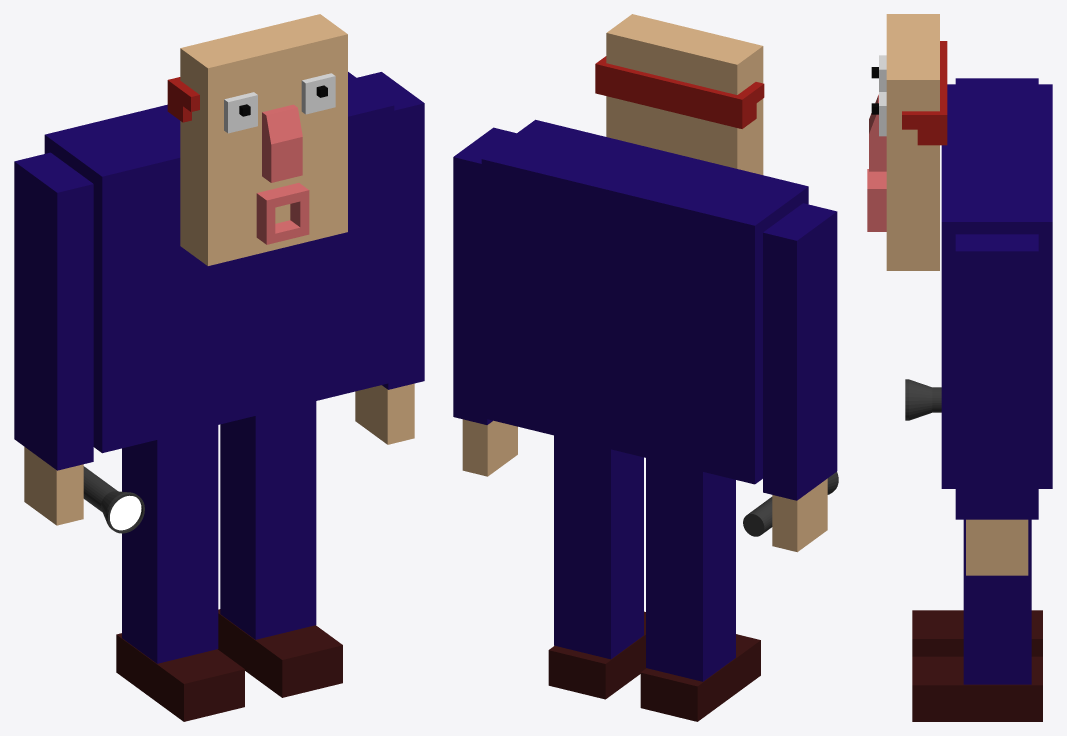
The model's file is old-guy.glb.
3 views of the same model, side by side, from view 1: azimuth 30°, elevation 25°; view 2: azimuth 150°, elevation 25°; view 3: azimuth 270°, elevation 25° (orthographic). The views are drawn at different scales.
Parts seen in each view (by area): view 1: Cube, Cube.004, Cube.002, Cube.001, Cube.005, Cube.003, Cube.007, Cube.008, Cylinder.001, Cube.009, Cube.006; view 2: Cube, Cube.004, Cube.002, Cube.001, Cube.005, Cube.006, Cube.003, Cylinder.001; view 3: Cube.002, Cube, Cube.001, Cube.005, Cube.004, Cube.003, Cube.006, Cube.008, Cylinder.001, Cube.007, Cube.009.
Part boxes in pixels (<box>): Cube: <box>44,72,394,453</box>; Cube.004: <box>122,401,316,663</box>; Cube.002: <box>14,72,424,470</box>; Cube.001: <box>180,14,347,265</box>; Cube.005: <box>116,609,342,721</box>; Cube.003: <box>24,383,414,525</box>; Cube.007: <box>262,104,302,182</box>; Cube.008: <box>256,183,309,244</box>; Cylinder.001: <box>83,466,144,533</box>; Cube.009: <box>224,73,335,133</box>; Cube.006: <box>167,77,199,122</box>; Cube: <box>481,119,808,484</box>; Cube.004: <box>554,435,735,681</box>; Cube.002: <box>453,127,837,500</box>; Cube.001: <box>606,14,763,174</box>; Cube.005: <box>548,611,760,721</box>; Cube.006: <box>595,56,764,128</box>; Cube.003: <box>462,419,827,552</box>; Cylinder.001: <box>743,472,838,536</box>; Cube.002: <box>955,78,1038,519</box>; Cube: <box>941,84,1052,488</box>; Cube.001: <box>886,14,939,270</box>; Cube.005: <box>912,610,1042,721</box>; Cube.004: <box>963,519,1031,684</box>; Cube.003: <box>966,519,1028,575</box>; Cube.006: <box>902,41,947,145</box>; Cube.008: <box>867,169,886,231</box>; Cylinder.001: <box>905,379,941,420</box>; Cube.007: <box>869,94,886,171</box>; Cube.009: <box>879,55,886,136</box>.
Bounding box in the file's own units: 2.78 × 4.78 × 1.26.
